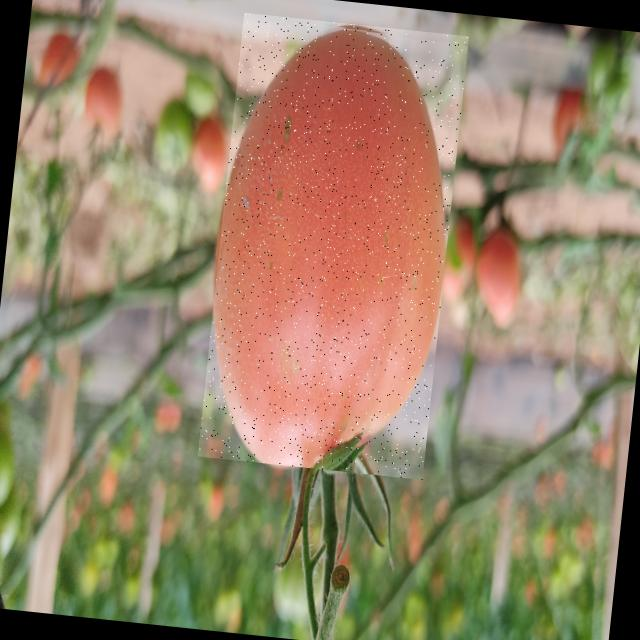Ripe Tomato: (197, 12, 468, 479)
